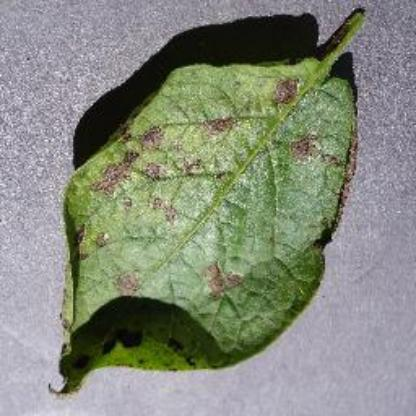Early-Blight: (47, 6, 385, 402)
